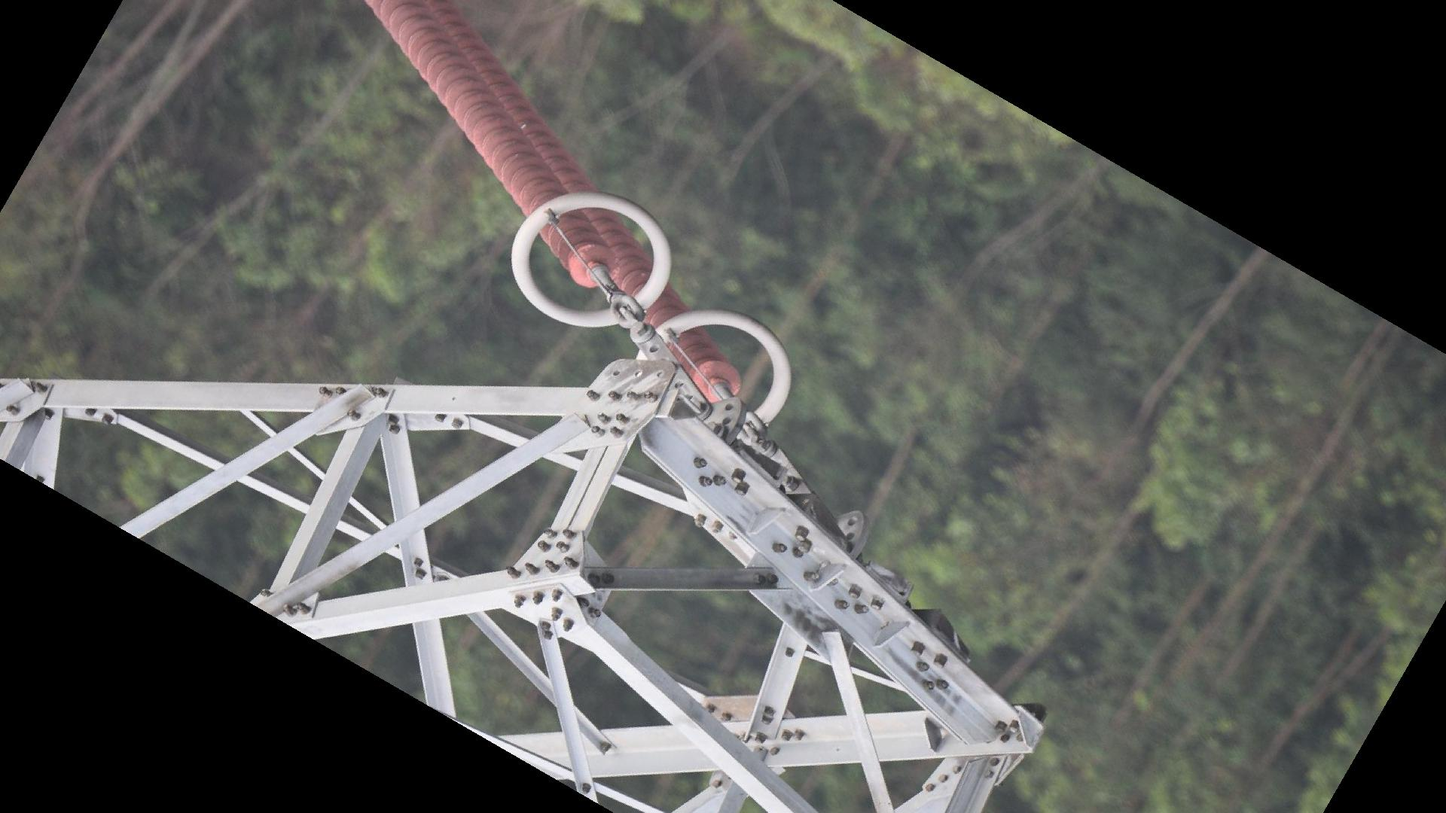insulator: (359, 1, 749, 416)
